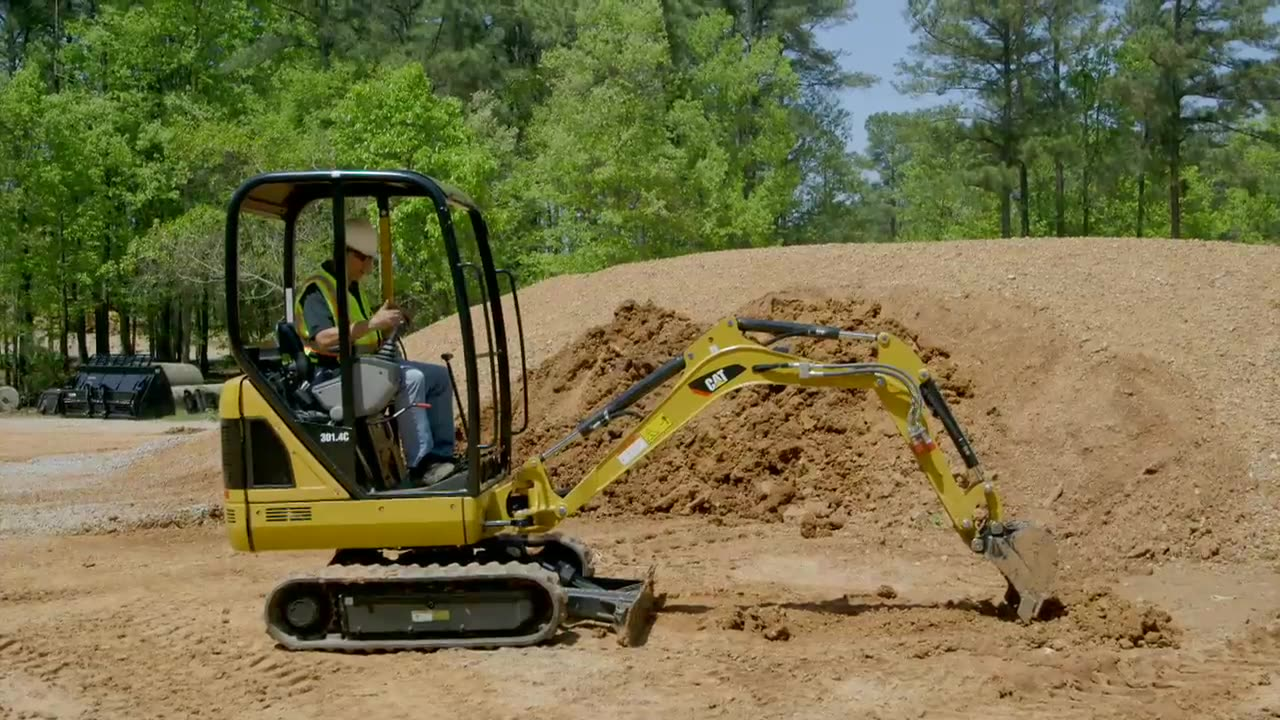attachment-bucket: (962, 528, 1072, 622)
cabin: (206, 167, 538, 556)
forearm: (875, 335, 999, 543)
upperarm: (536, 347, 885, 516)
wheelbase: (249, 527, 609, 661)
